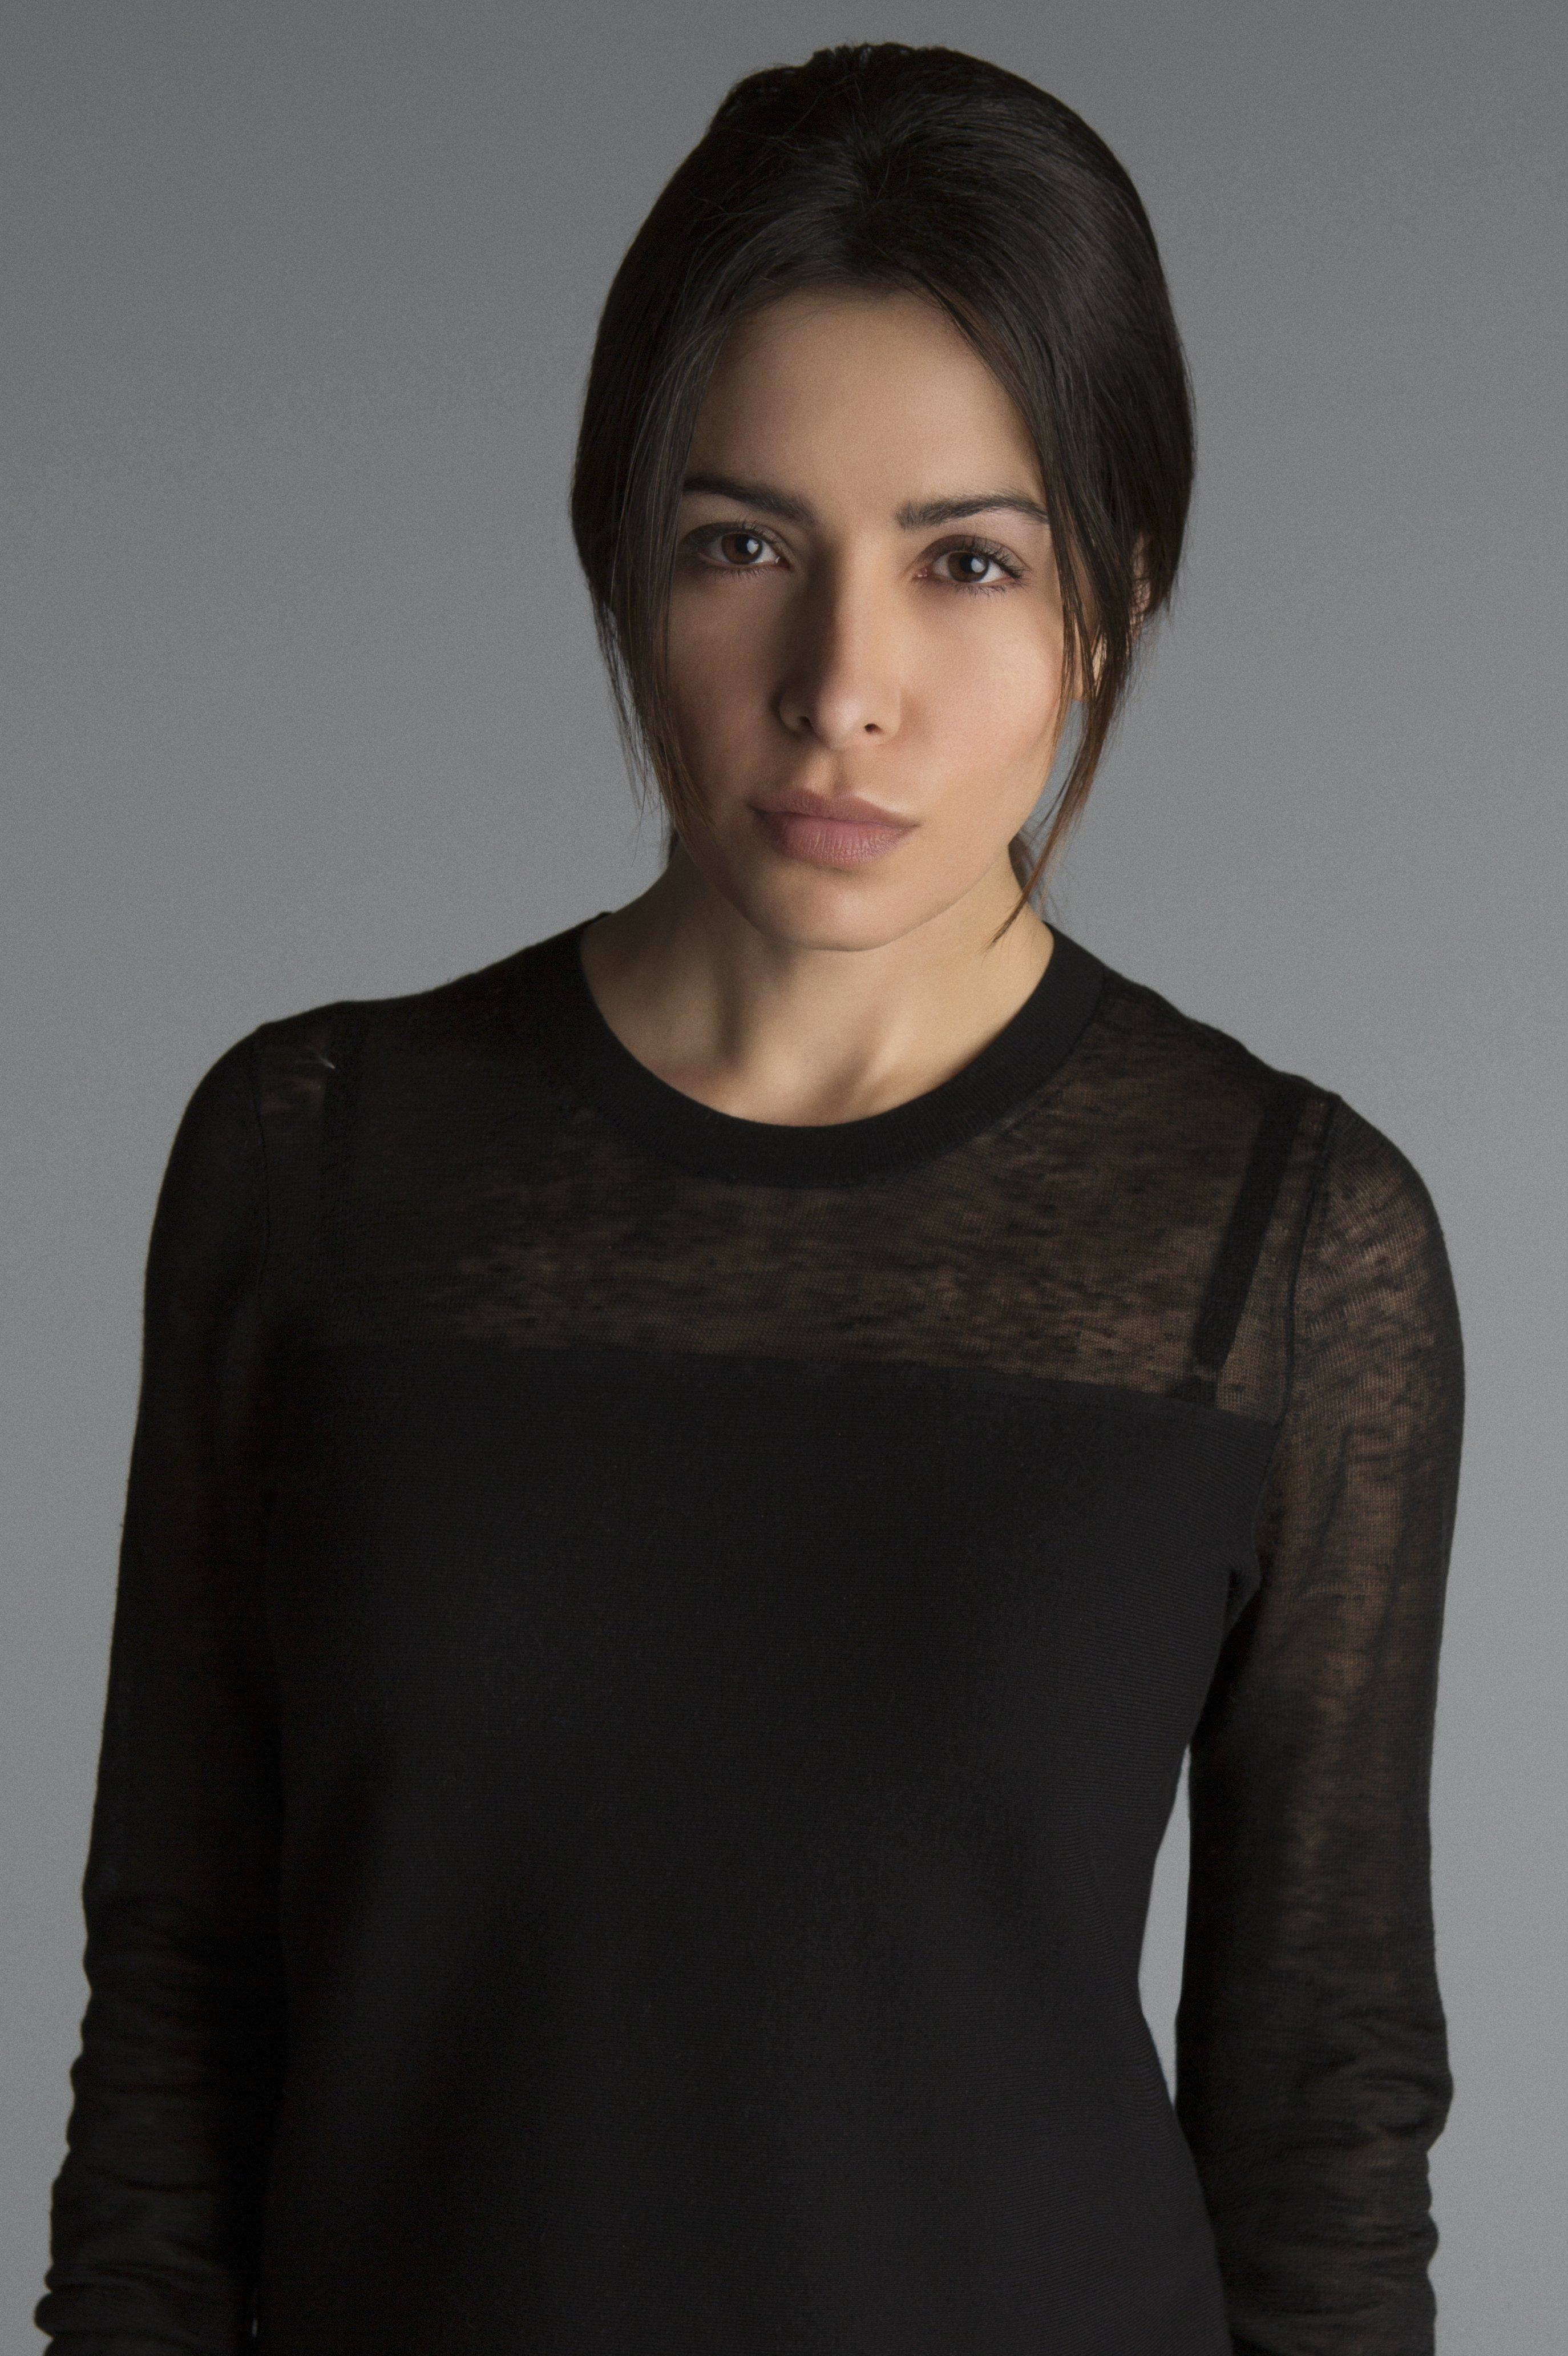person: (79, 45, 1485, 2356)
